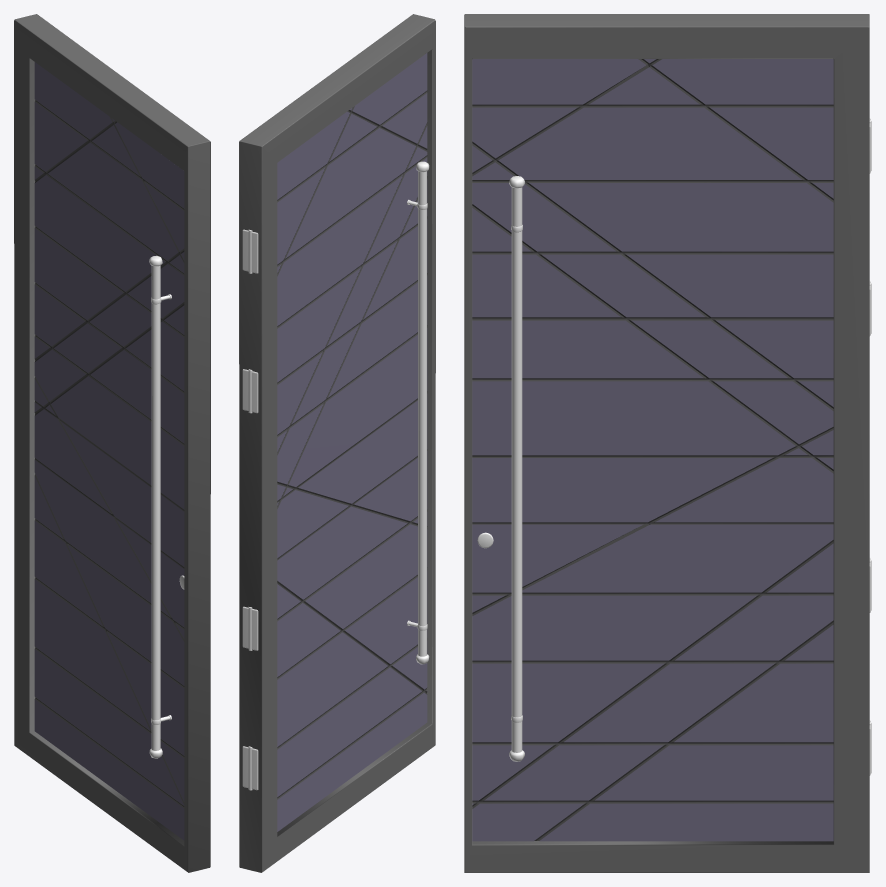
3 views of the same model, side by side, from view 1: azimuth 30°, elevation 25°; view 2: azimuth 150°, elevation 25°; view 3: azimuth 270°, elevation 25° (orthographic). The views are drawn at different scales.
Parts seen in each view (by area): view 1: SM_H_Building_FutureTech_Dock_06a_Door_L; view 2: SM_H_Building_FutureTech_Dock_06a_Door_L; view 3: SM_H_Building_FutureTech_Dock_06a_Door_L.
Boxes of the visible parts, x1,y1,x2,y2 form: SM_H_Building_FutureTech_Dock_06a_Door_L: (14,14,210,872); SM_H_Building_FutureTech_Dock_06a_Door_L: (239,14,435,872); SM_H_Building_FutureTech_Dock_06a_Door_L: (464,14,871,872).
Size of the model in its own units: 57.75 by 10.24 by 133.
